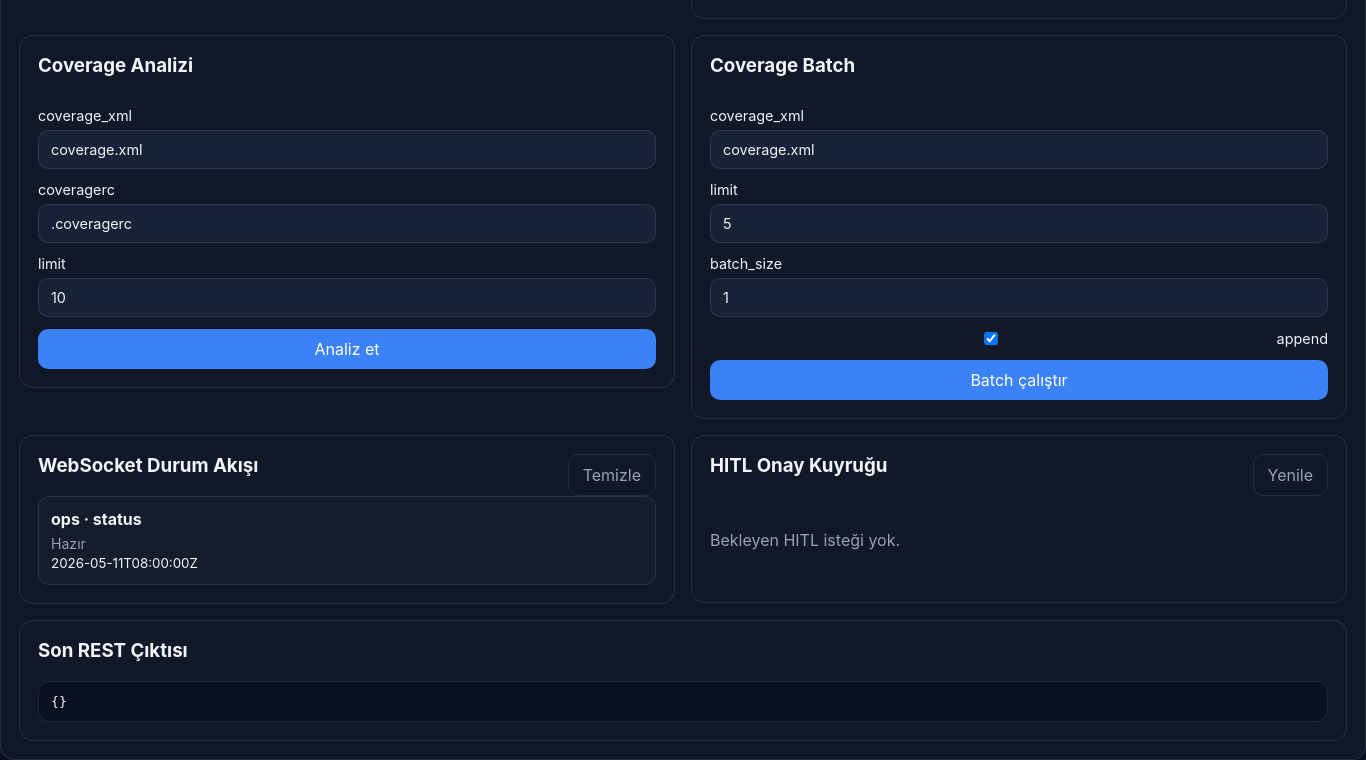
OperationsQaPanel — WebSocket olay akışı › gelen olayları listeye ekler ve temizleme butonu sıfırlar
This screenshot has width=1366, height=760.
(page scrolled)
Expected: the text "ops · status" is shown, top-left (51, 509), bottom-right (142, 529)
Expected: the text "Hazır" is shown, top-left (51, 535), bottom-right (86, 552)
Click the button "Temizle": (612, 475) top-left (568, 454), bottom-right (656, 496)
(page scrolled)
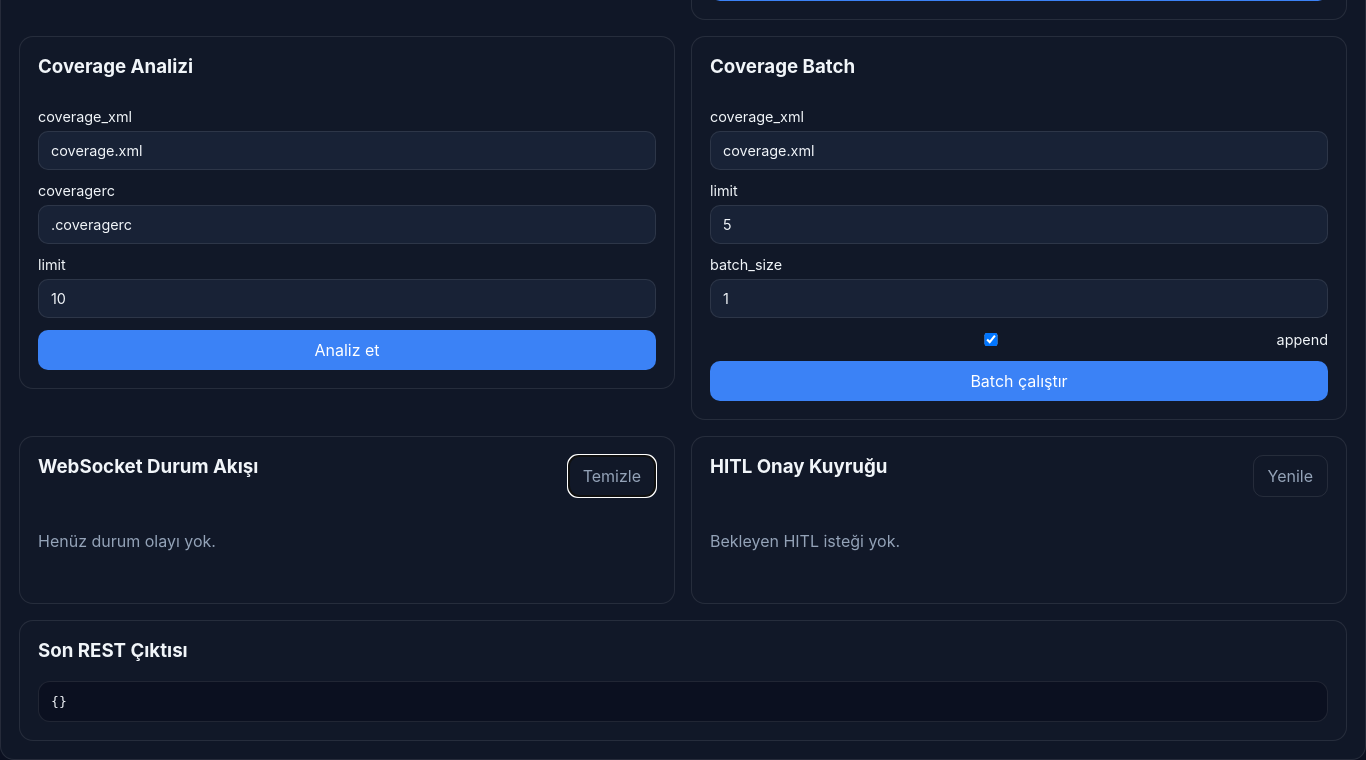
Result: the text "Henüz durum olayı yok." is shown at top-left (38, 531), bottom-right (216, 551)
